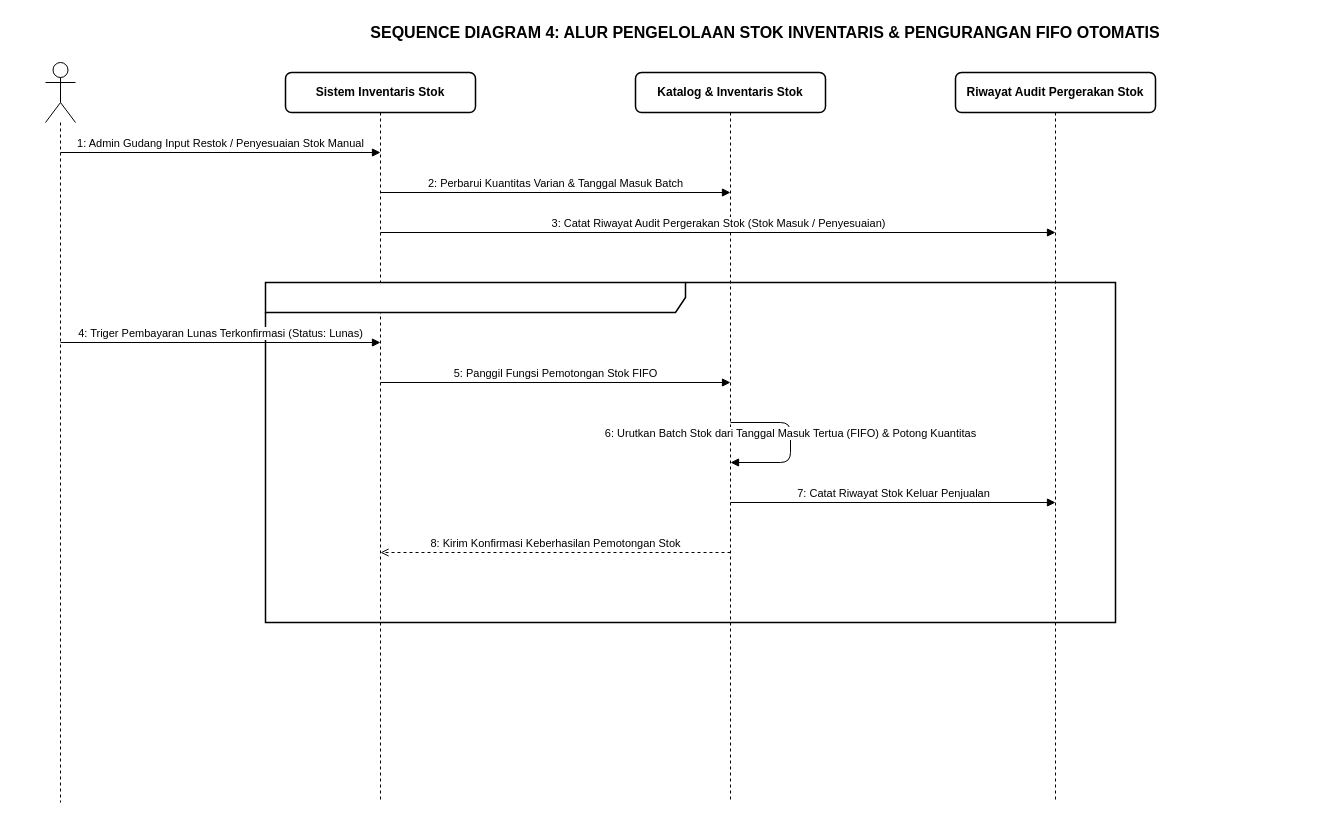
Image size: 1333x821. Some labels were removed from this diagram. The shapes that lost their labels are listed below. From the top down, each one's centre as x and y in pixels, then its label:
At pixel 60 92: "Admin Gudang".
At pixel 690 452: "PENGURANGA STOK FIFO OTOMATIS (Saat Pembayaran Lunas Terkonfirmasi)".
